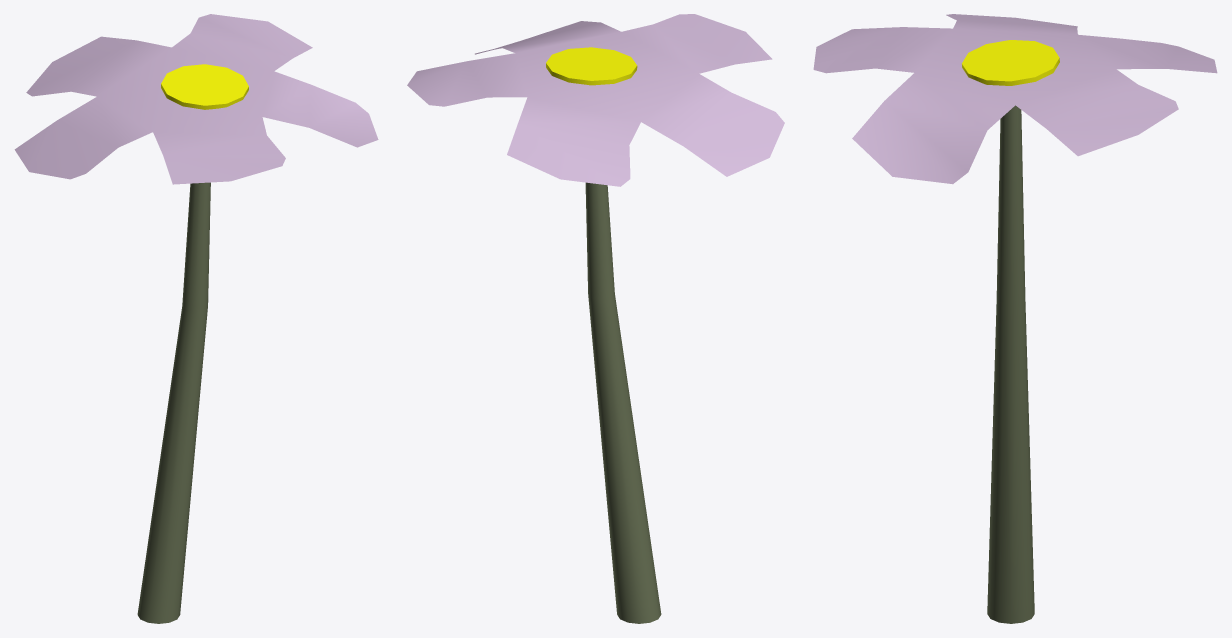
Rendered from roze bloemen.fbx.
3 renders of one model, left to right at view 1: azimuth 30°, elevation 25°; view 2: azimuth 150°, elevation 25°; view 3: azimuth 270°, elevation 25°, orthographic. The views are drawn at different scales.
Visible parts, largest first — view 1: polySurface134; view 2: polySurface134; view 3: polySurface134.
Boxes of the visible parts, box(x1,y1,x2,y2) form: polySurface134: box(14, 14, 378, 623); polySurface134: box(407, 14, 784, 623); polySurface134: box(813, 14, 1217, 623).
Bounding box in the file's own units: 0.2732 × 0.4364 × 0.2749.
